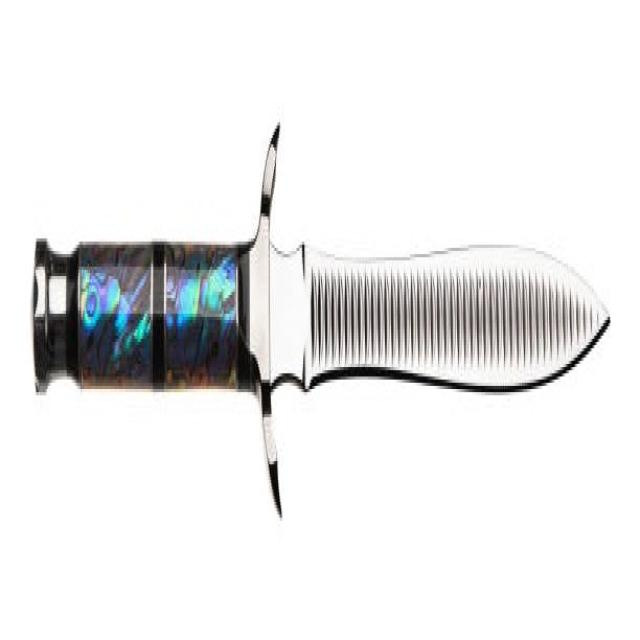knife: (30, 103, 609, 526)
